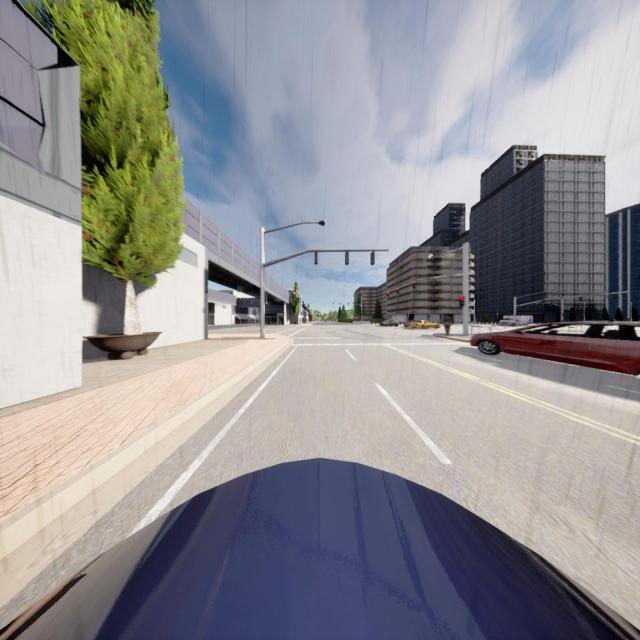Pedestrian: (443, 313, 452, 335)
Vehicle: (0, 459, 640, 639), (471, 319, 640, 376), (498, 314, 533, 328), (380, 319, 400, 327), (403, 320, 422, 328), (421, 320, 440, 328)
traffic_light: (370, 250, 374, 265), (264, 291, 268, 305), (345, 251, 349, 264), (314, 251, 318, 264), (460, 296, 464, 306), (386, 291, 389, 297), (396, 288, 399, 294), (413, 280, 415, 288), (361, 312, 362, 316), (333, 302, 334, 305), (348, 303, 349, 305), (340, 303, 340, 305)
